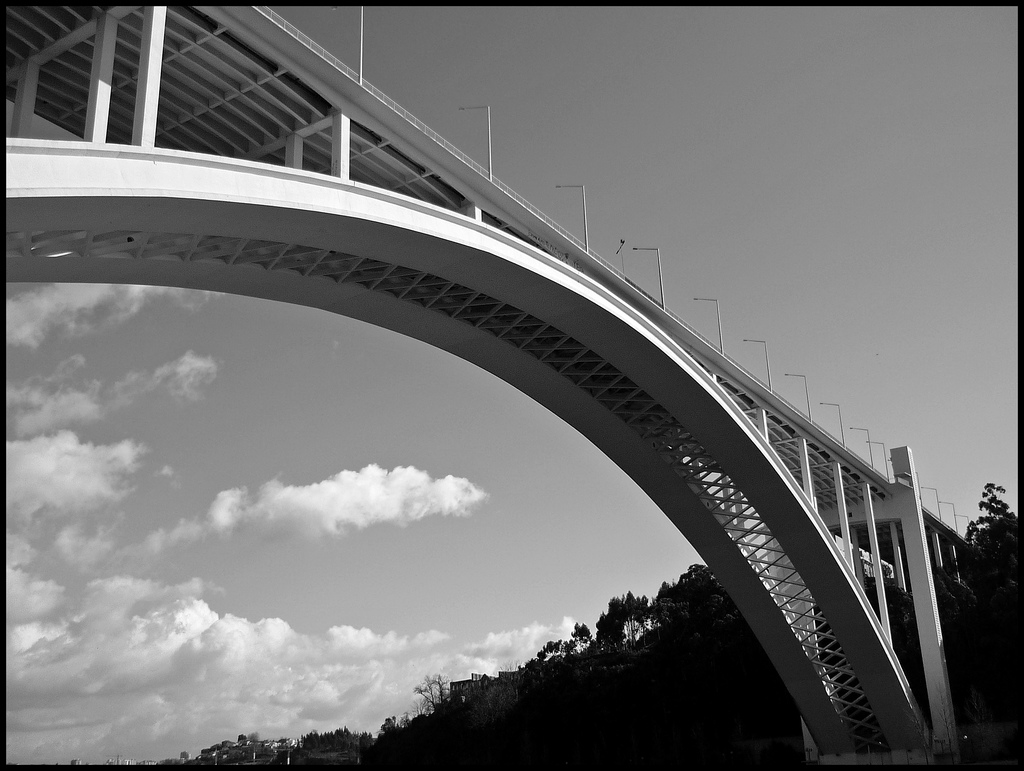arrabida: (0, 0, 983, 770)
